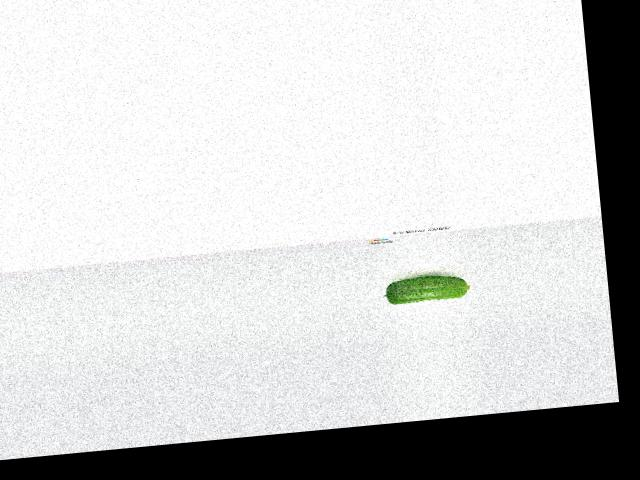cucumber: (382, 272, 471, 305)
